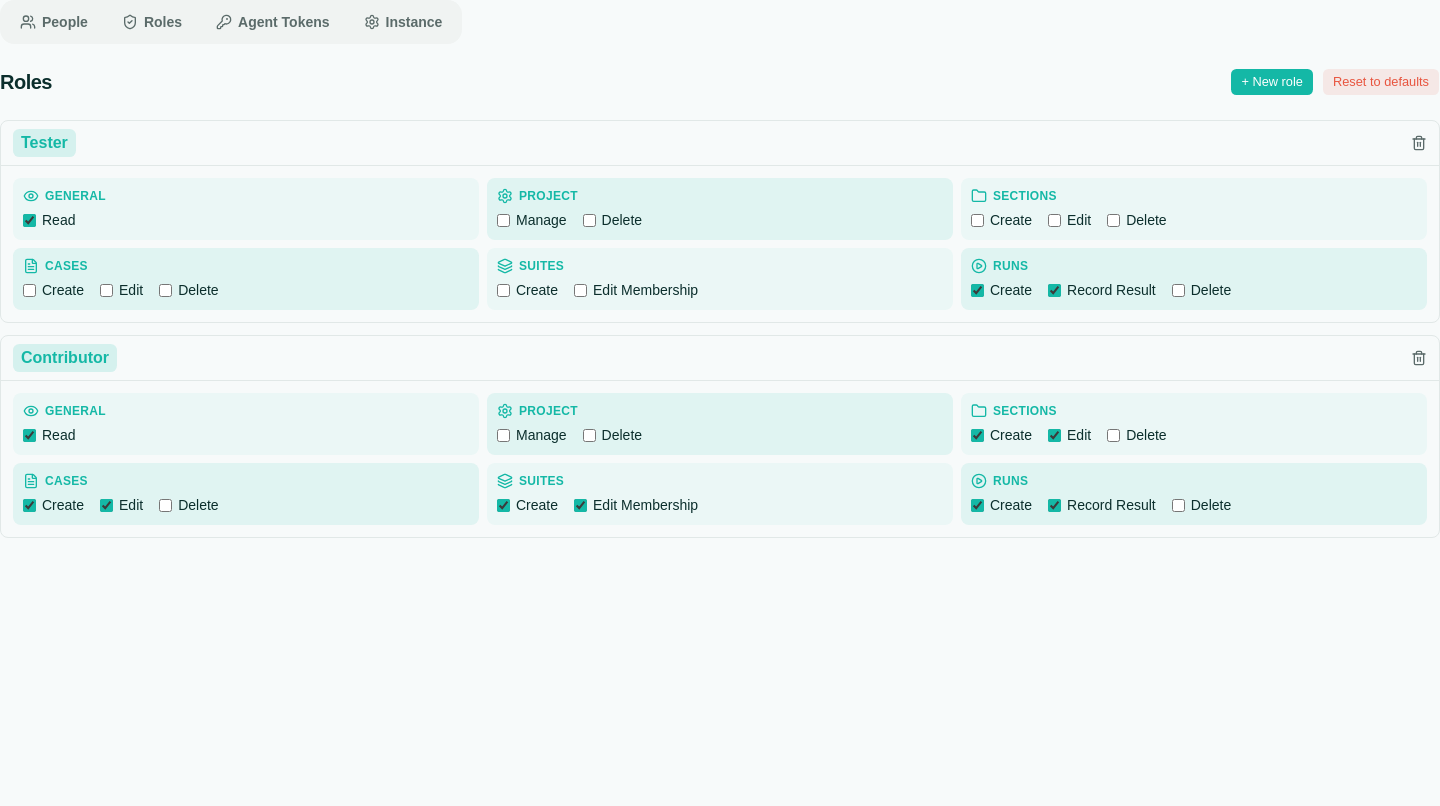
Scenario: RolesPage › closes the inline create-role form on Cancel
The image size is (1440, 806).
What coordinates should you click on to do the following:
click the button "+ New role"
I would click on:
 (1272, 82)
Its box is [1230,68,1314,96].
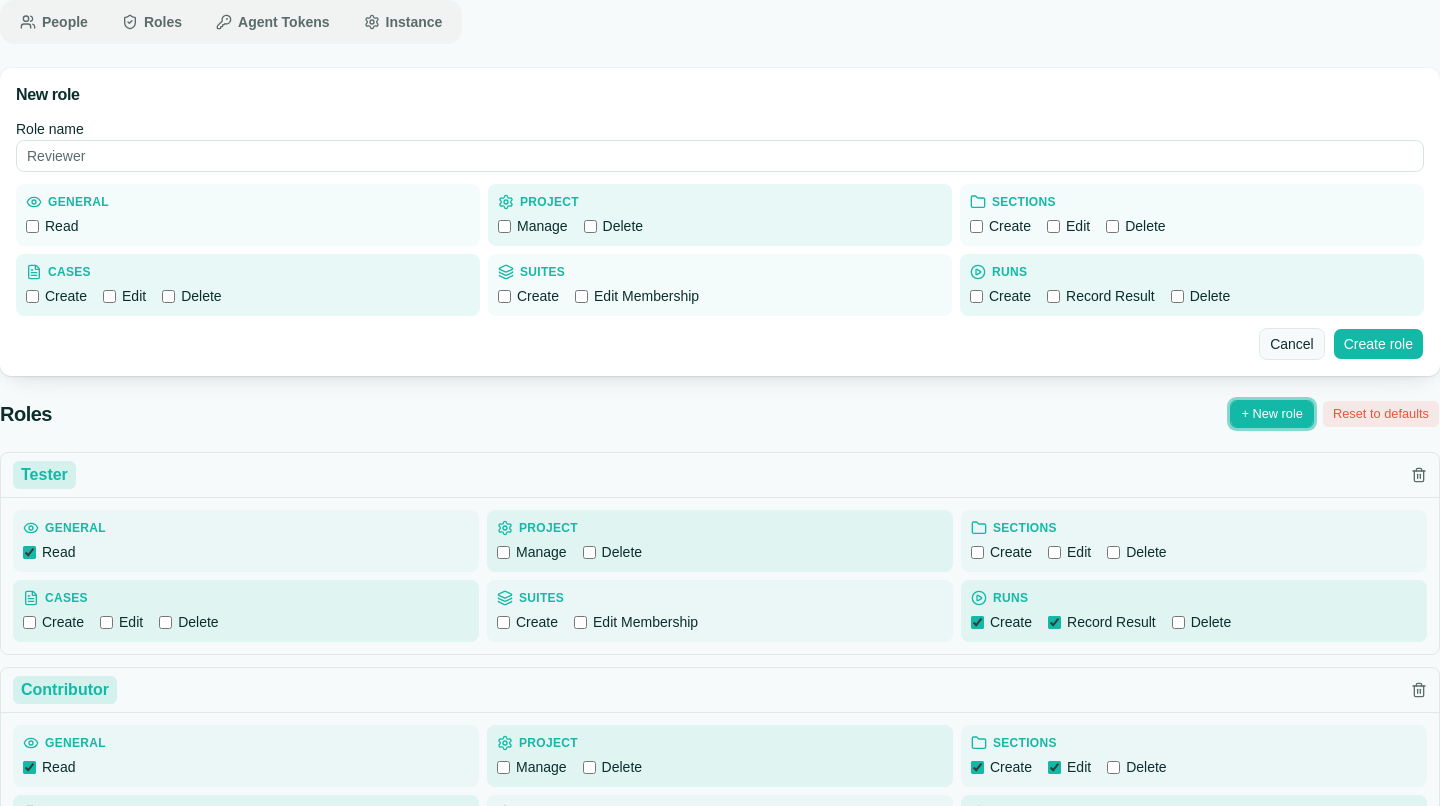
What coordinates should you click on to do the following:
click the button "Cancel"
I would click on:
 (1292, 344)
Its box is [1259,328,1325,360].
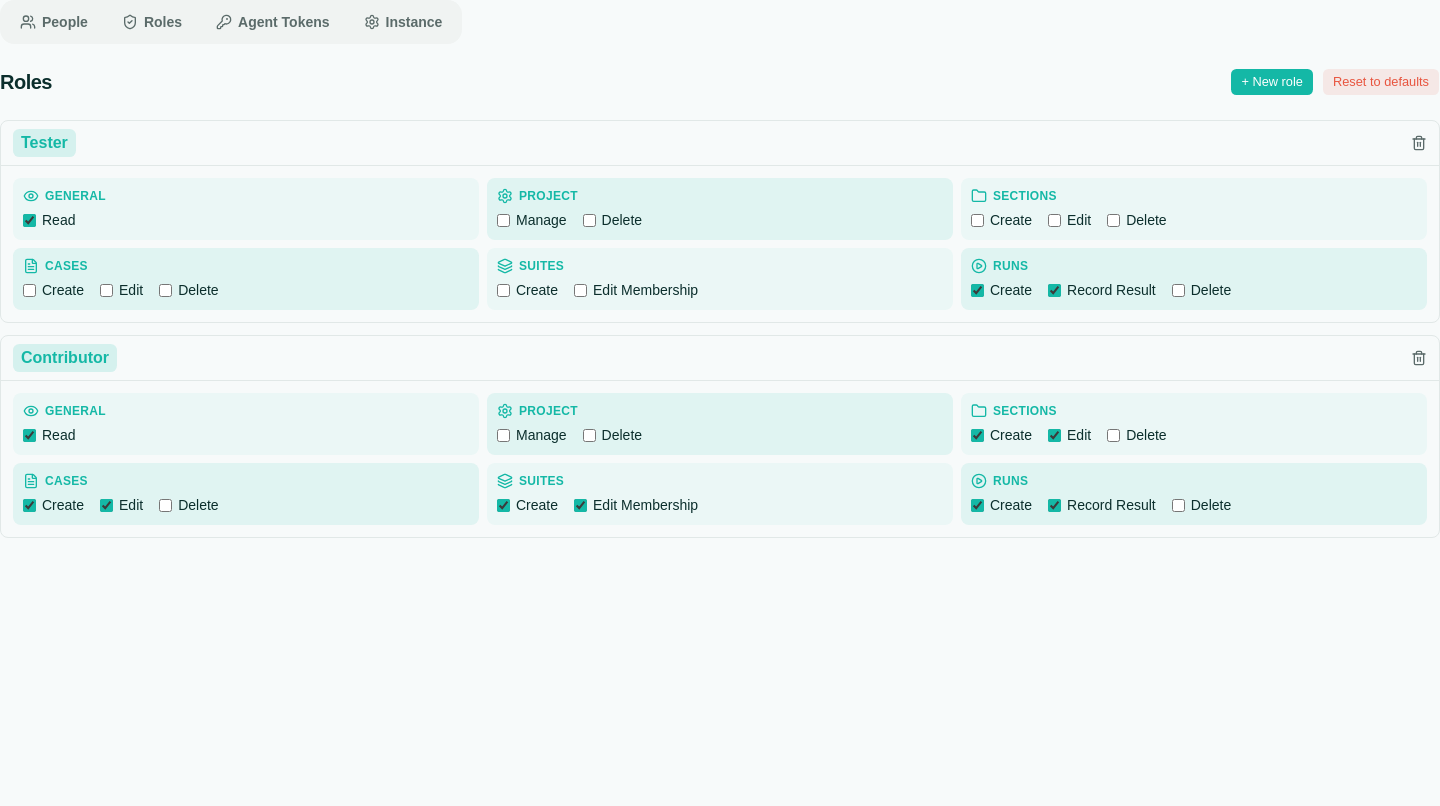
Now the label labelled "Role name" is gone
